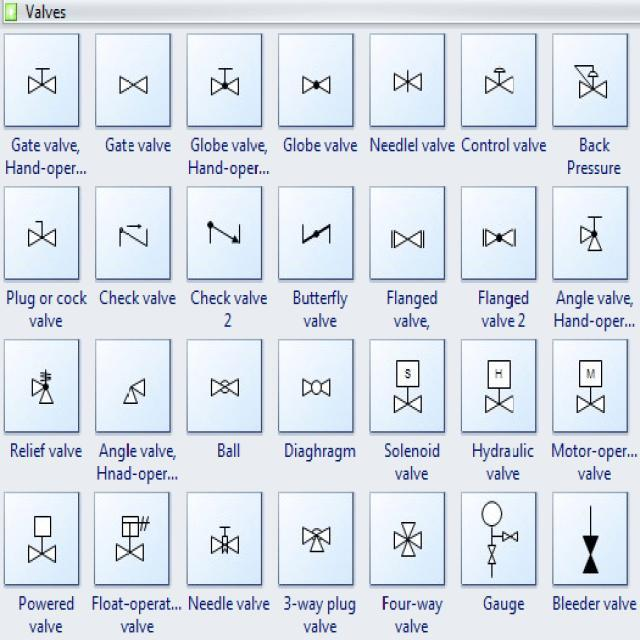Angle Valve: (114, 366, 154, 416)
BackPressure Regulator: (568, 52, 616, 110)
Ball Valve: (200, 369, 250, 404), (293, 369, 334, 404)
Bleeder Valve: (574, 500, 608, 585)
Butterfly Valve: (293, 213, 347, 258)
Check Valve: (202, 211, 252, 256), (115, 215, 160, 260)
Cock Valve: (26, 216, 63, 258)
Flanged: (475, 217, 523, 260), (381, 221, 434, 259)
Gate Valve: (106, 68, 155, 104)
Globe Valve: (293, 70, 340, 106)
Hand Operated Angle Valve: (568, 202, 610, 266)
Hand Operated Gate Valve: (19, 58, 68, 104)
Hand Operated Globe Valve: (194, 54, 250, 107)
Hydraulic Operated Gate Valve: (476, 352, 522, 423)
Motor Operated Gate Valve: (567, 350, 615, 416)
Needle Valve: (390, 55, 432, 104)
Pneumatic-Diaphragm Gate Valve: (473, 63, 522, 105)
Relief Valve: (23, 361, 61, 422)
Solenoid Operated Gate Valve: (387, 350, 429, 416)
